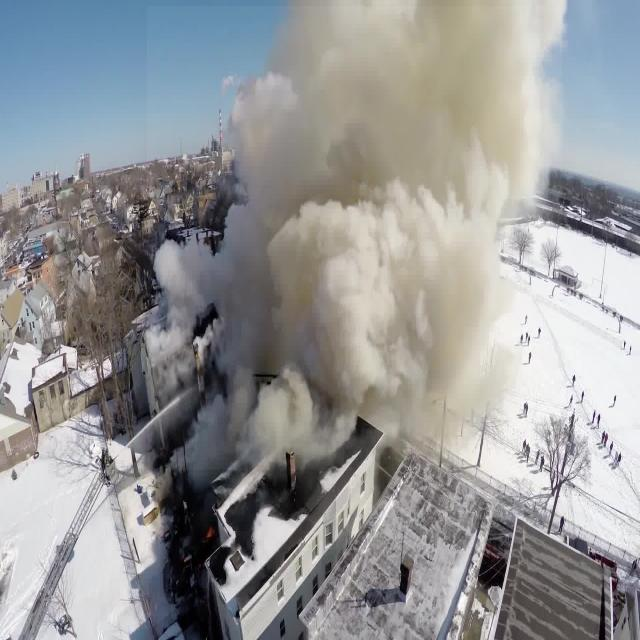Smoke: (147, 6, 562, 470)
